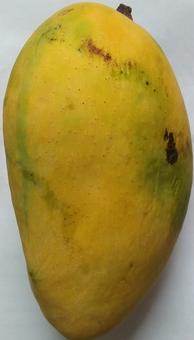Ripe: (1, 0, 194, 340)
